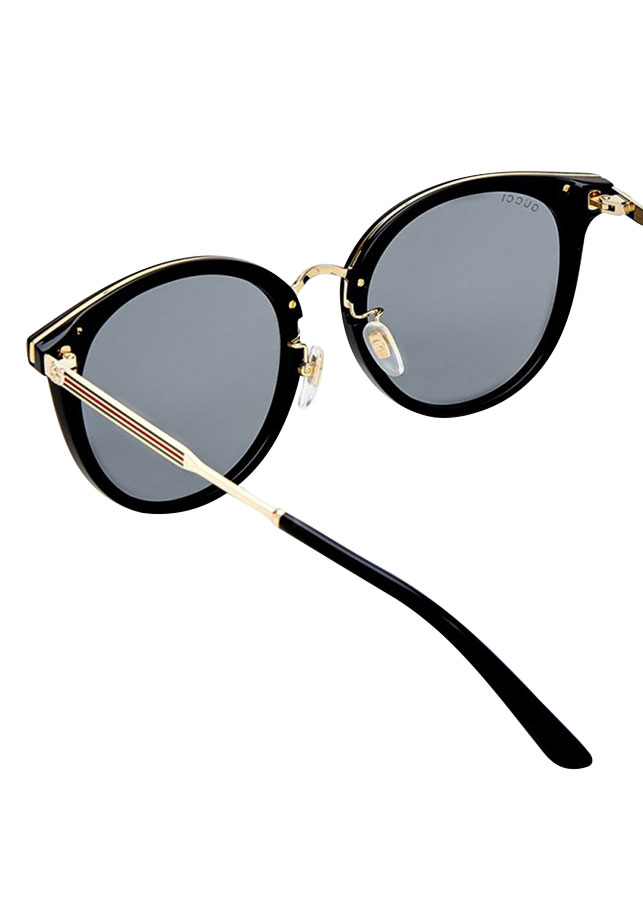Gucci: (494, 183, 549, 220)
